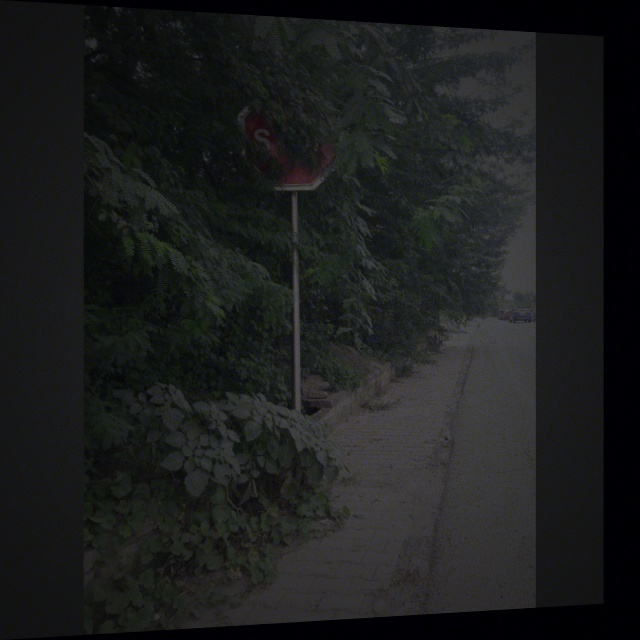Stop: (237, 92, 334, 192)
